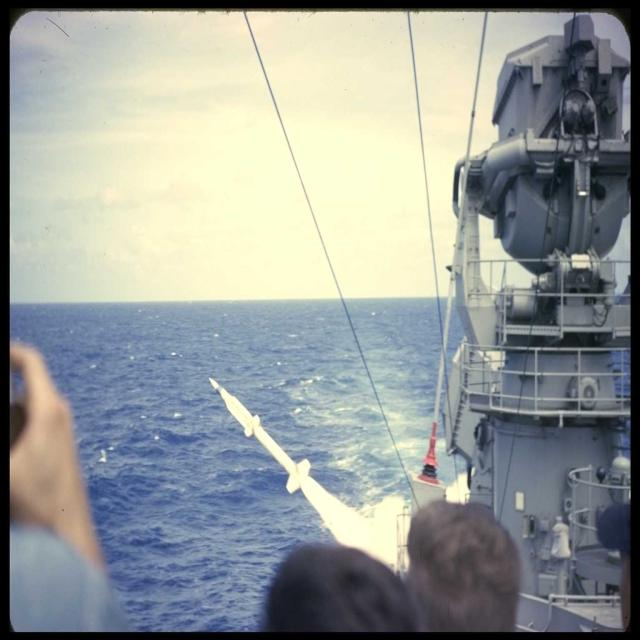missile: (206, 372, 310, 494)
